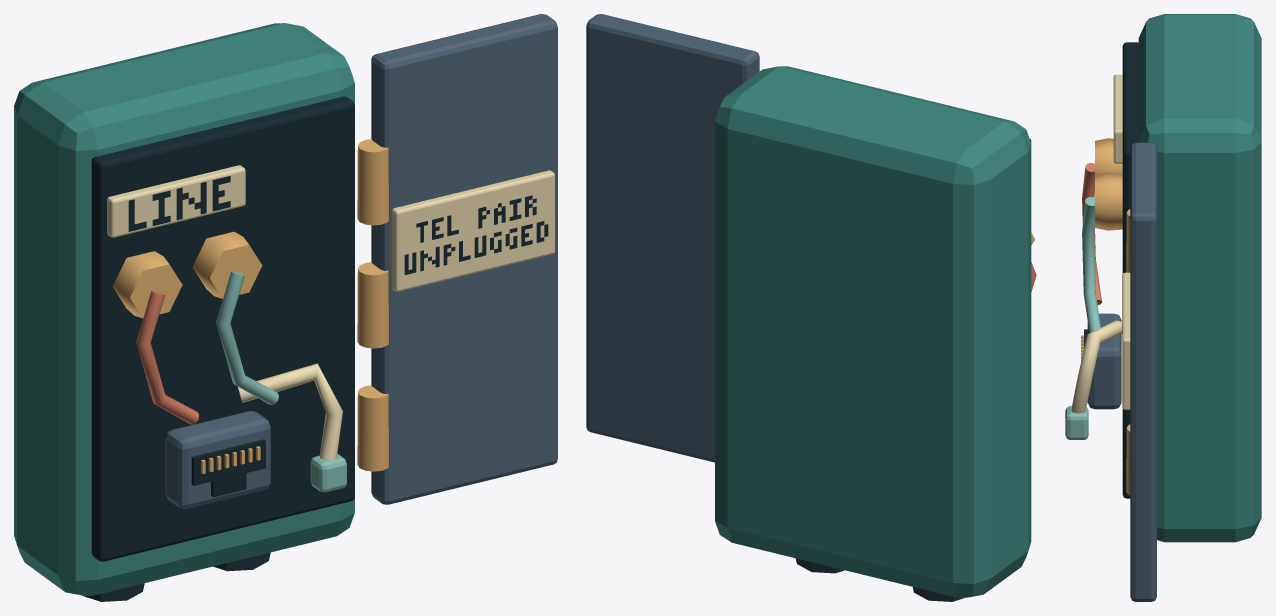
3 views of the same model, side by side, from view 1: azimuth 30°, elevation 25°; view 2: azimuth 150°, elevation 25°; view 3: azimuth 270°, elevation 25° (orthographic). The views are drawn at different scales.
Parts seen in each view (by area): view 1: PR087 enamel and hardware; view 2: PR087 enamel and hardware; view 3: PR087 enamel and hardware.
Boxes of the visible parts, x1=… form: PR087 enamel and hardware: x1=14, y1=14, x2=557, y2=601; PR087 enamel and hardware: x1=586, y1=14, x2=1036, y2=601; PR087 enamel and hardware: x1=1065, y1=14, x2=1261, y2=601.
Bounding box in the file's own units: 1.1 × 1.09 × 0.4424.
